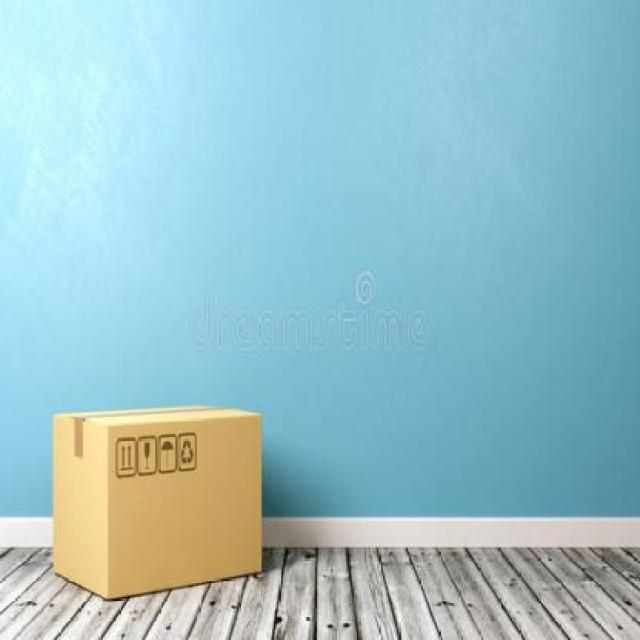box: (53, 404, 265, 601)
